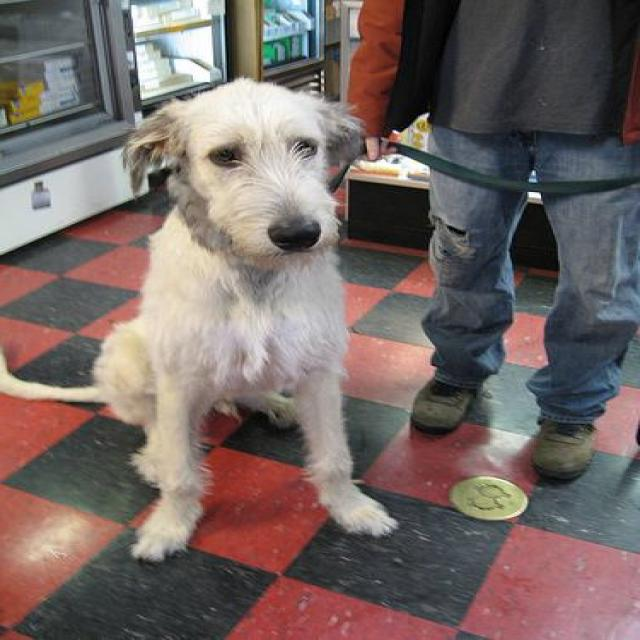irish_wolfhound: (4, 70, 406, 566)
